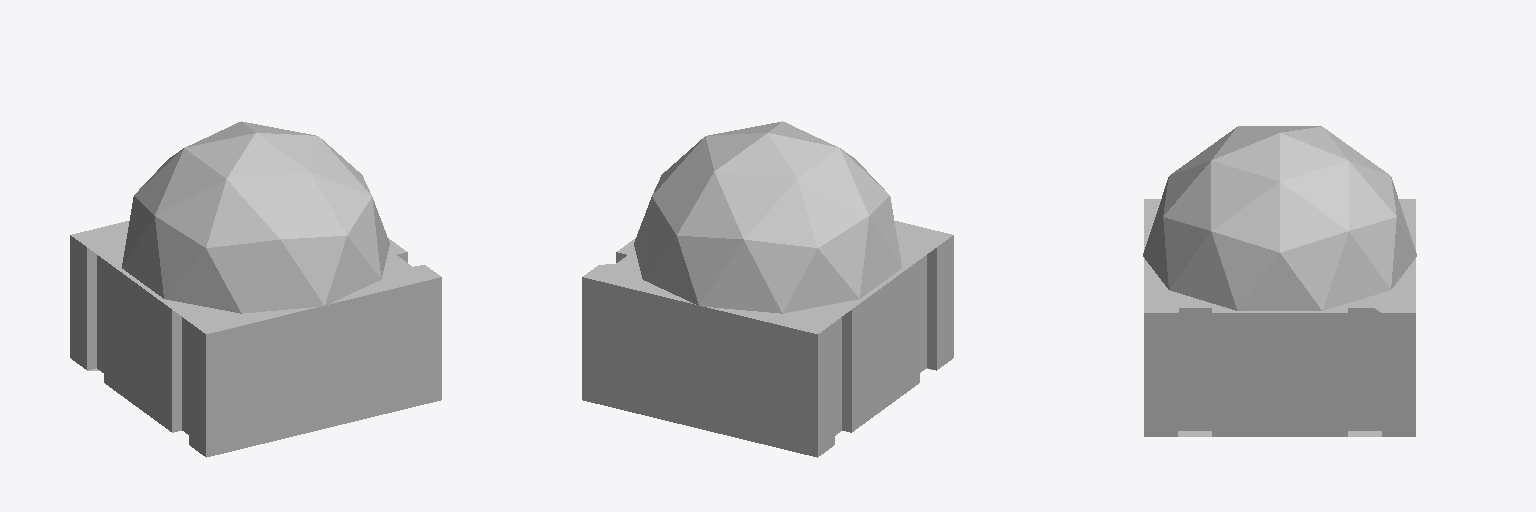
File: building3.obj
3 views of the same model, side by side, from view 1: azimuth 30°, elevation 25°; view 2: azimuth 150°, elevation 25°; view 3: azimuth 270°, elevation 25° (orthographic).
Visible parts, largest first — view 1: Icosphere; view 2: Icosphere; view 3: Icosphere.
Part boxes in pixels (bbox=[...]): Icosphere: bbox=[70, 121, 441, 457]; Icosphere: bbox=[582, 121, 953, 457]; Icosphere: bbox=[1143, 126, 1416, 436].
Size of the model in its own units: 2 by 2 by 2.02.